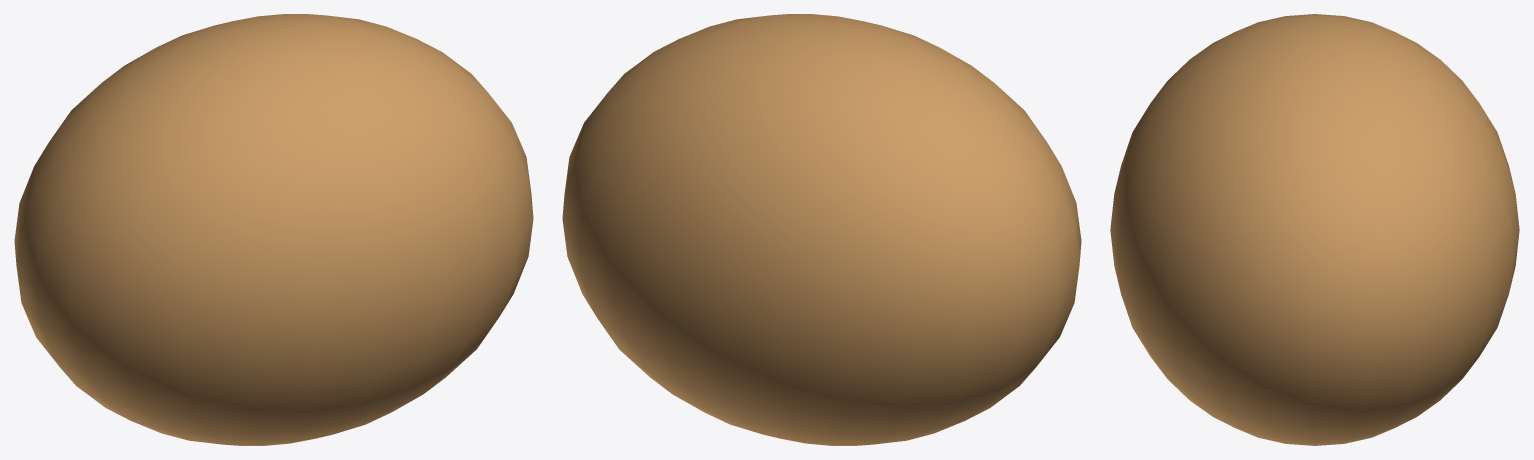
The model's file is wp-pomme-de-terre.glb.
The picture shows the model from 3 angles, left to right: view 1: azimuth 30°, elevation 25°; view 2: azimuth 150°, elevation 25°; view 3: azimuth 270°, elevation 25°; orthographic projection. The views are drawn at different scales.
Parts seen in each view (by area): view 1: wp-pomme-de-terre; view 2: wp-pomme-de-terre; view 3: wp-pomme-de-terre.
Part boxes in pixels (<box>): wp-pomme-de-terre: <box>14,14,533,445</box>; wp-pomme-de-terre: <box>562,14,1081,445</box>; wp-pomme-de-terre: <box>1110,14,1519,445</box>.
Bounding box in the file's own units: 0.09 × 0.07 × 0.07.
